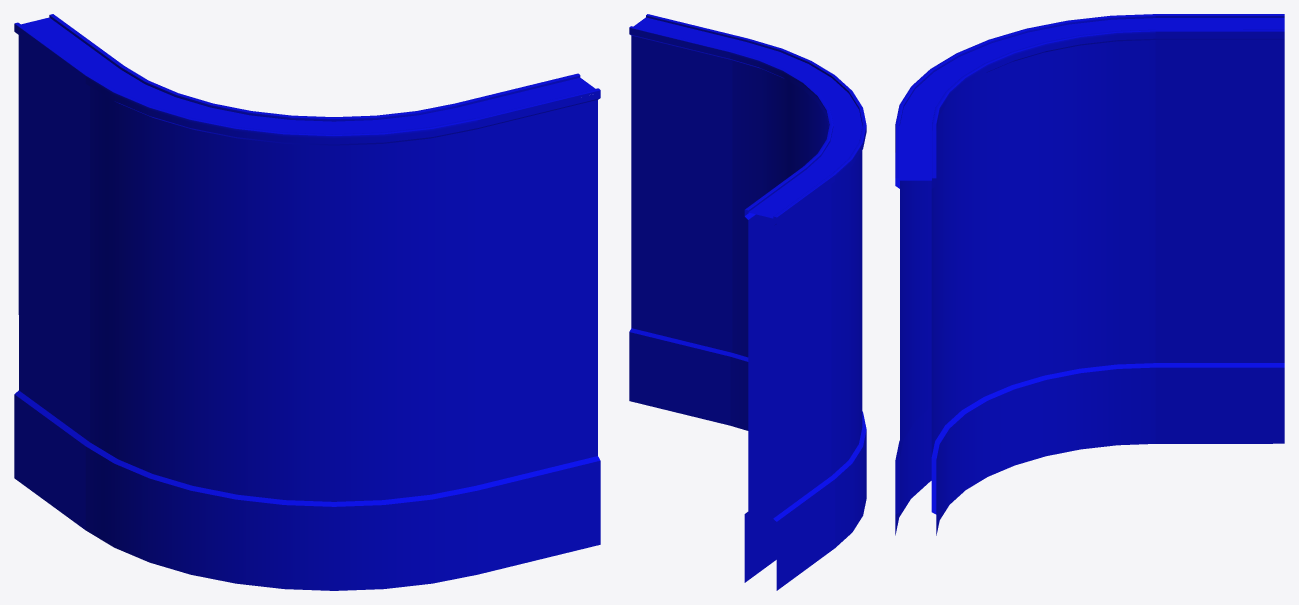
The model's file is Wall_Corner_Inner_test.FBX.
3 views of the same model, side by side, from view 1: azimuth 30°, elevation 25°; view 2: azimuth 150°, elevation 25°; view 3: azimuth 270°, elevation 25° (orthographic). The views are drawn at different scales.
Visible parts, largest first — view 1: Wall_Corner_Inner_TEST; view 2: Wall_Corner_Inner_TEST; view 3: Wall_Corner_Inner_TEST.
Part boxes in pixels (x1,y1,x2,y2): Wall_Corner_Inner_TEST: (14, 14, 600, 590); Wall_Corner_Inner_TEST: (629, 14, 866, 590); Wall_Corner_Inner_TEST: (895, 14, 1284, 535).
Bounding box in the file's own units: 110 × 129 × 110.
